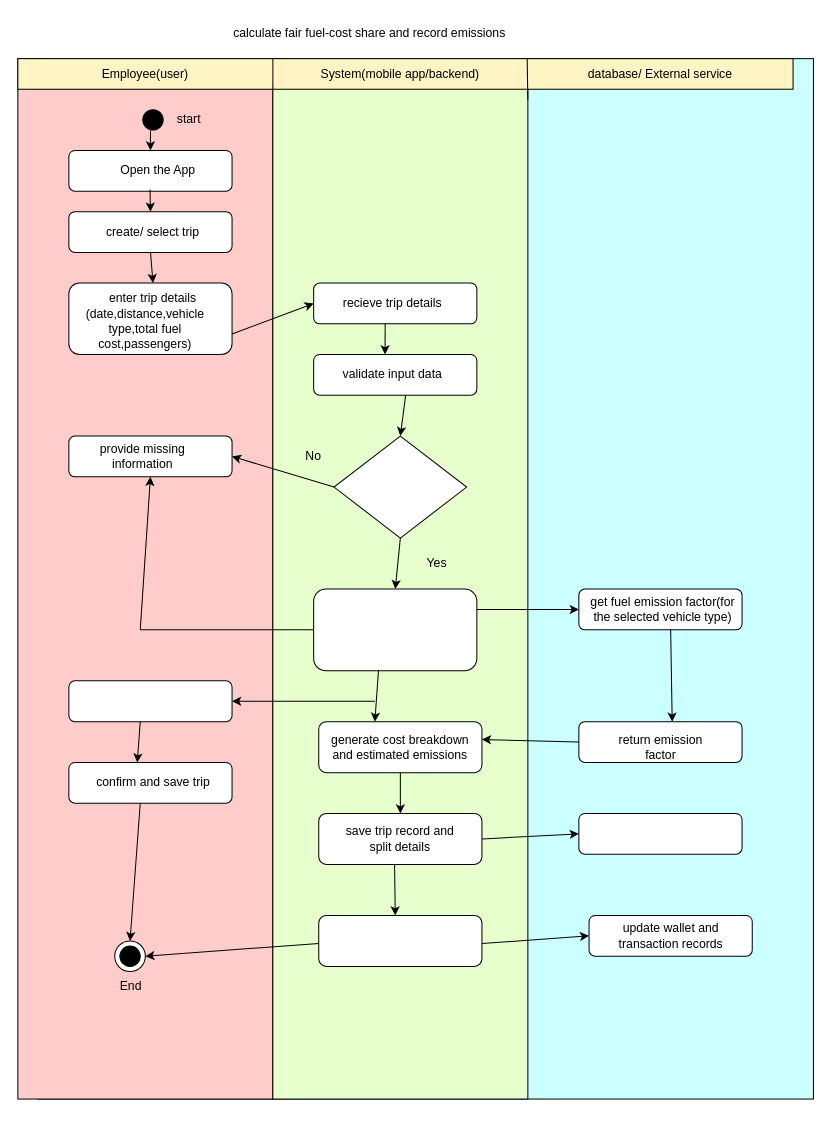
The diagram is 831 pixels wide and 1125 high, and some of its shapes have lost their labels. Each missing label, with the centre of its shape:
are all required details valid?: (400,486)
calculate fair fuel-cost share(for each passenger): (395,629)
store trip,cost split and emission record: (660,833)
update user wallet balances(if payment is made): (400,940)
view cost breakdown for each passenger: (150,701)
